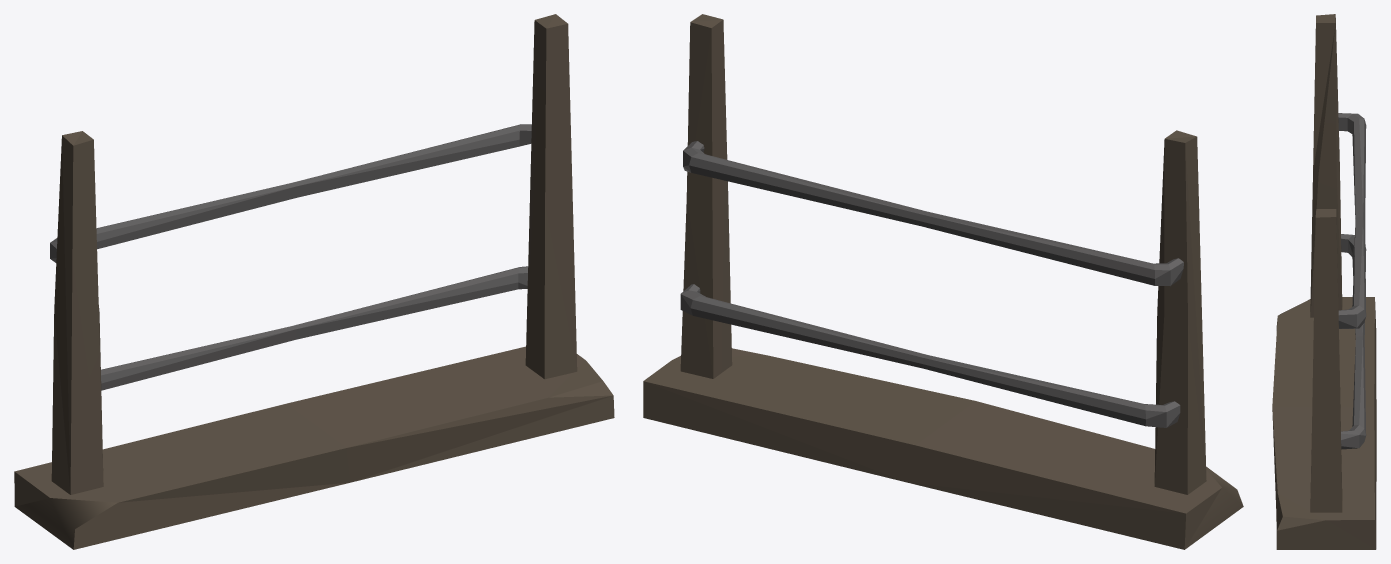
The model's file is SM_Prop_WeaponRack_01.glb.
3 views of the same model, side by side, from view 1: azimuth 30°, elevation 25°; view 2: azimuth 150°, elevation 25°; view 3: azimuth 270°, elevation 25° (orthographic). The views are drawn at different scales.
Visible parts, largest first — view 1: SM_Prop_WeaponRack_01; view 2: SM_Prop_WeaponRack_01; view 3: SM_Prop_WeaponRack_01.
Boxes of the visible parts, <box> form: SM_Prop_WeaponRack_01: <box>14,14,614,549</box>; SM_Prop_WeaponRack_01: <box>643,14,1243,549</box>; SM_Prop_WeaponRack_01: <box>1272,14,1376,549</box>.
Size of the model in its own units: 0.0211 by 0.0143 by 0.00418.
1 material, 1 textured.
